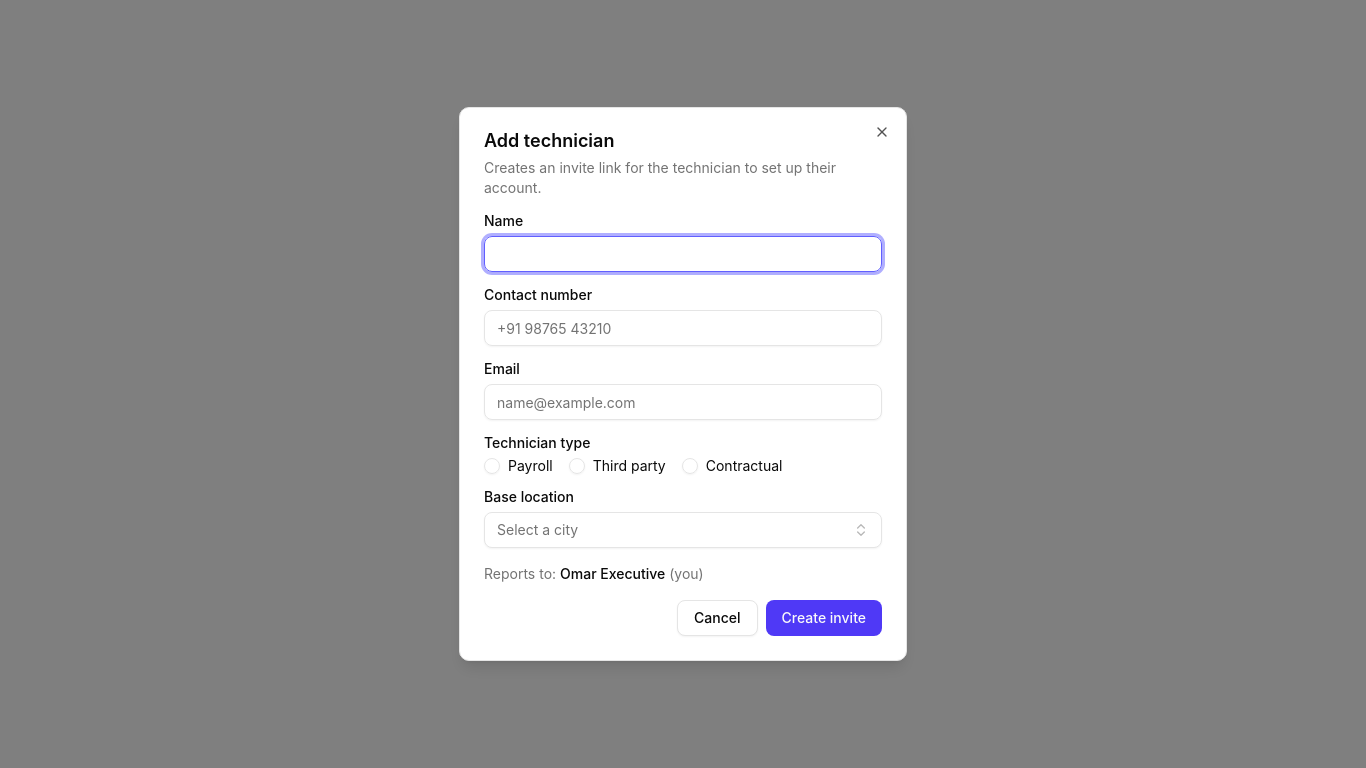
Test case: TechnicianDialog — add › an OE does not choose a manager: it is forced to themselves
Expected: the text "Reports to: Omar Executive (you)" is shown, [484,565,704,582]
Type "Ravi Kumar" into the field labelled "Name" at (683, 254), box [484,236,882,272]
Type "+91 90000 00001" into the field labelled "Contact number" at (683, 328), box [484,310,882,346]
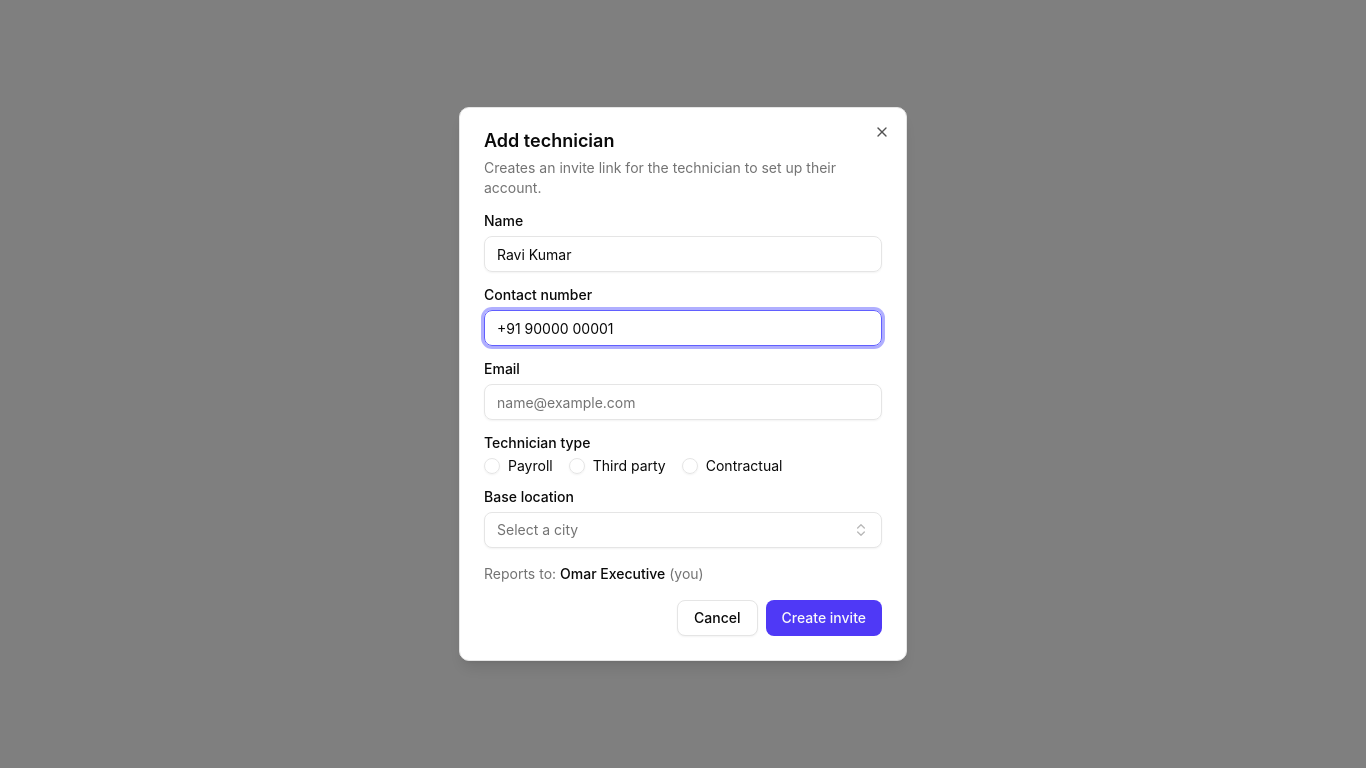
Type "Ravi@Example.com" into the field labelled "Email" at (683, 402), box [484,384,882,420]
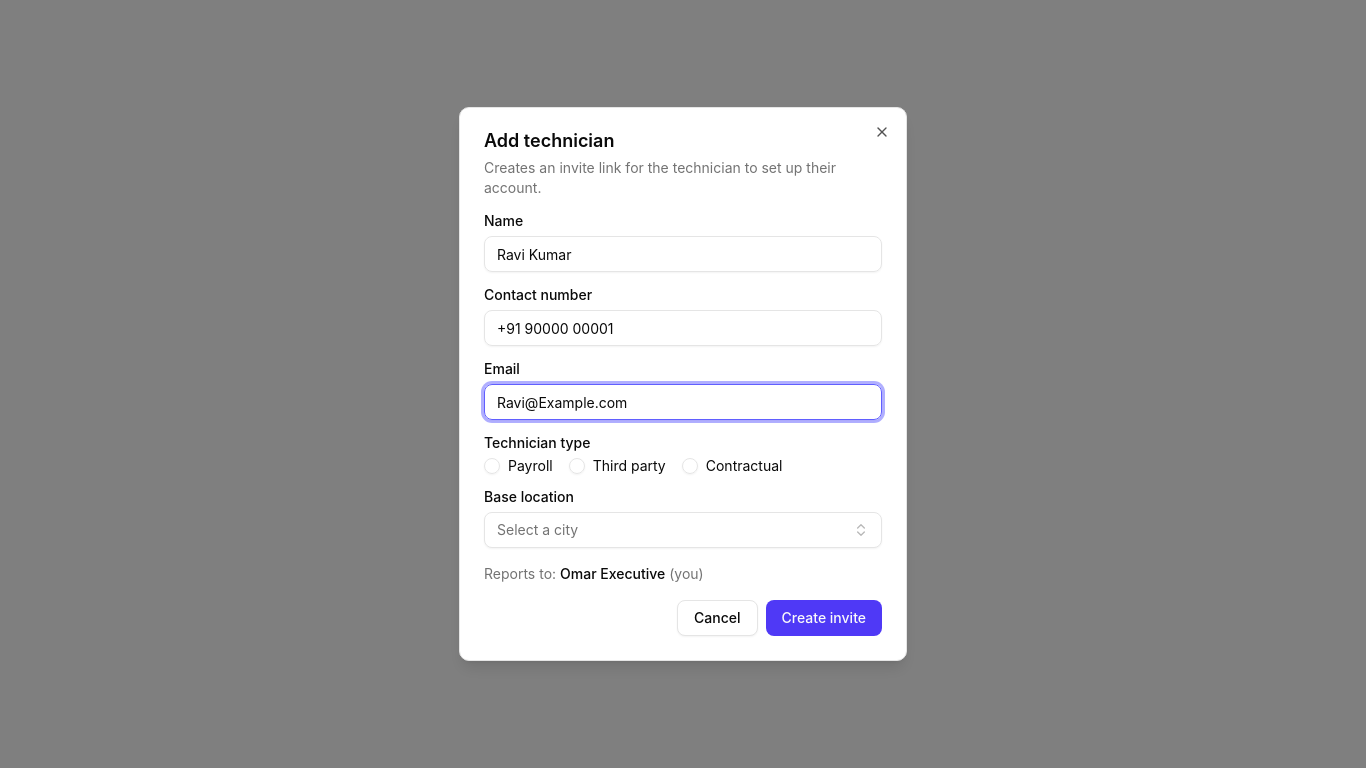
Click the radio button named "Third party" next to "Third party" at (577, 466), box [569,458,585,474]
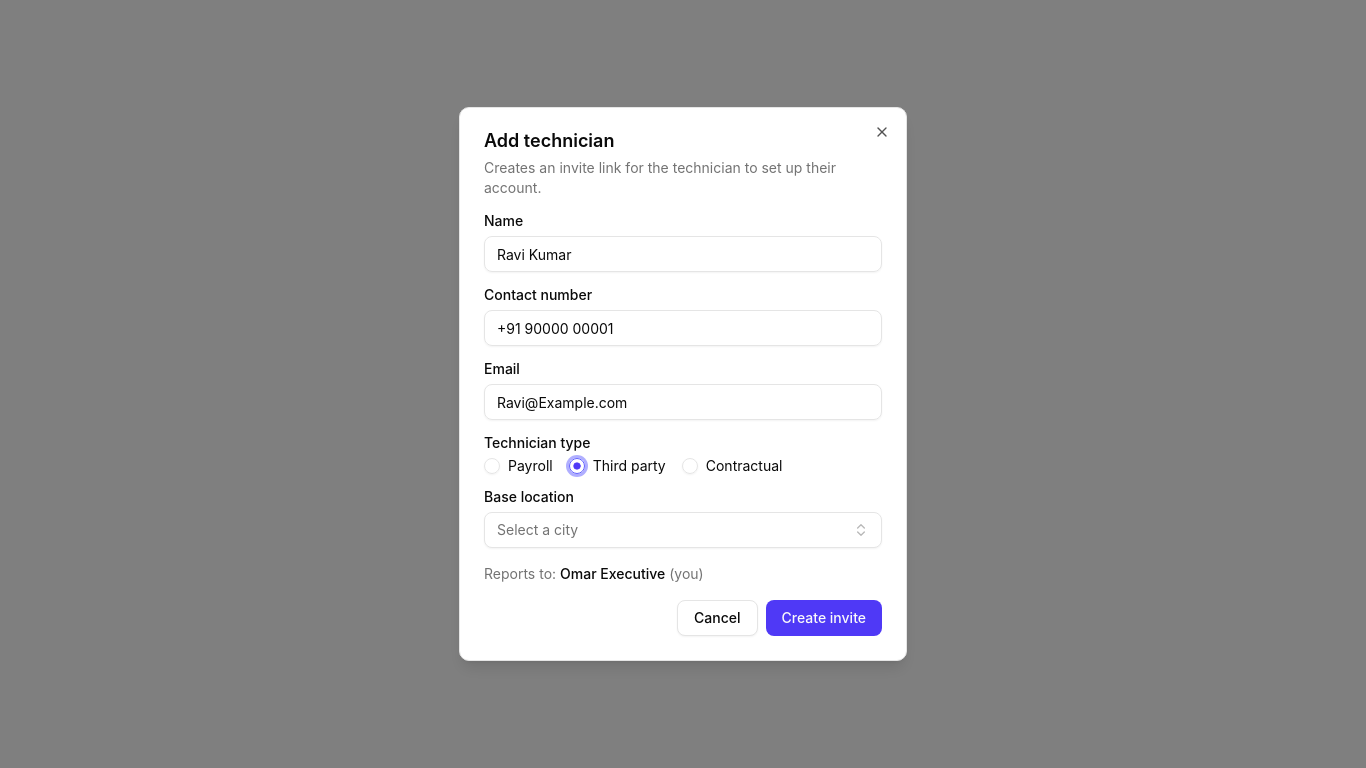
Click the dropdown named "Base location" at (538, 530), box [484,512,882,548]
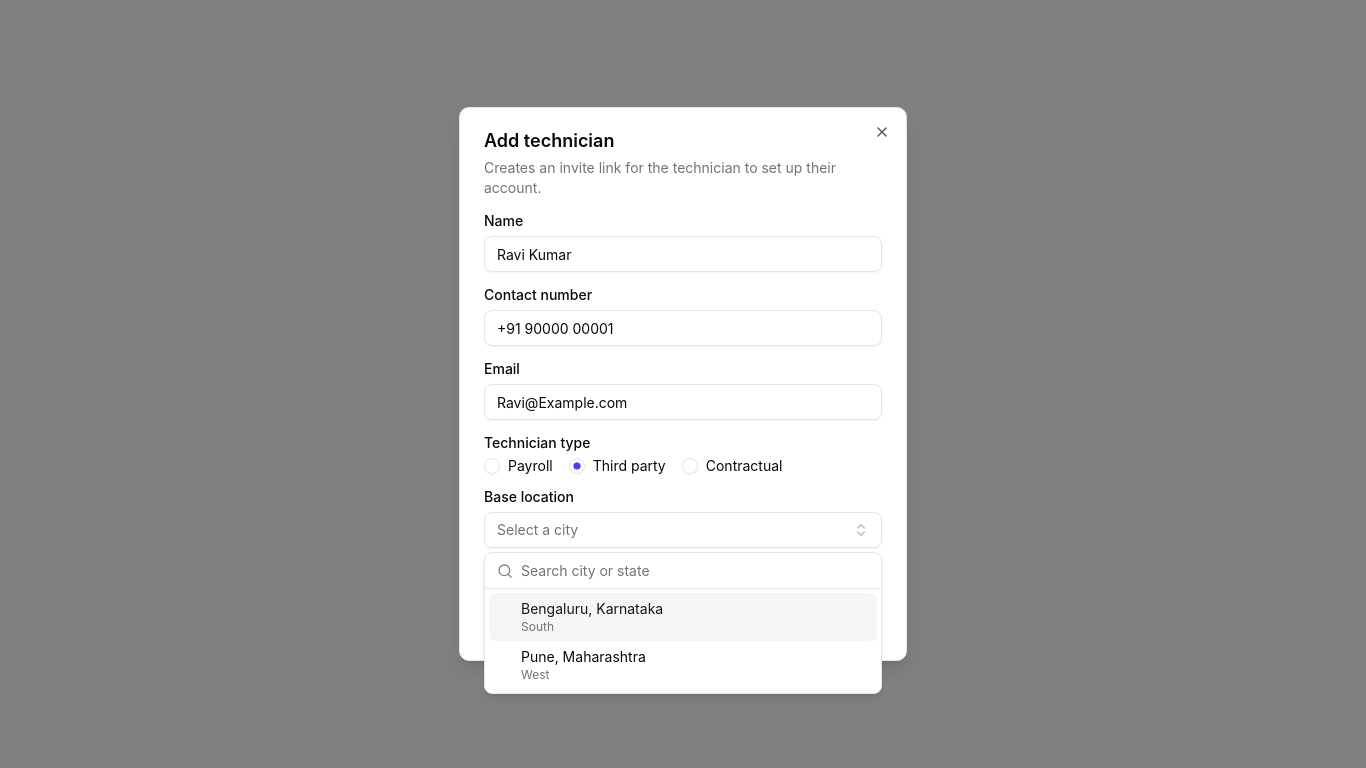
Click the option "Pune, Maharashtra West" at (583, 665), box [521,648,646,682]
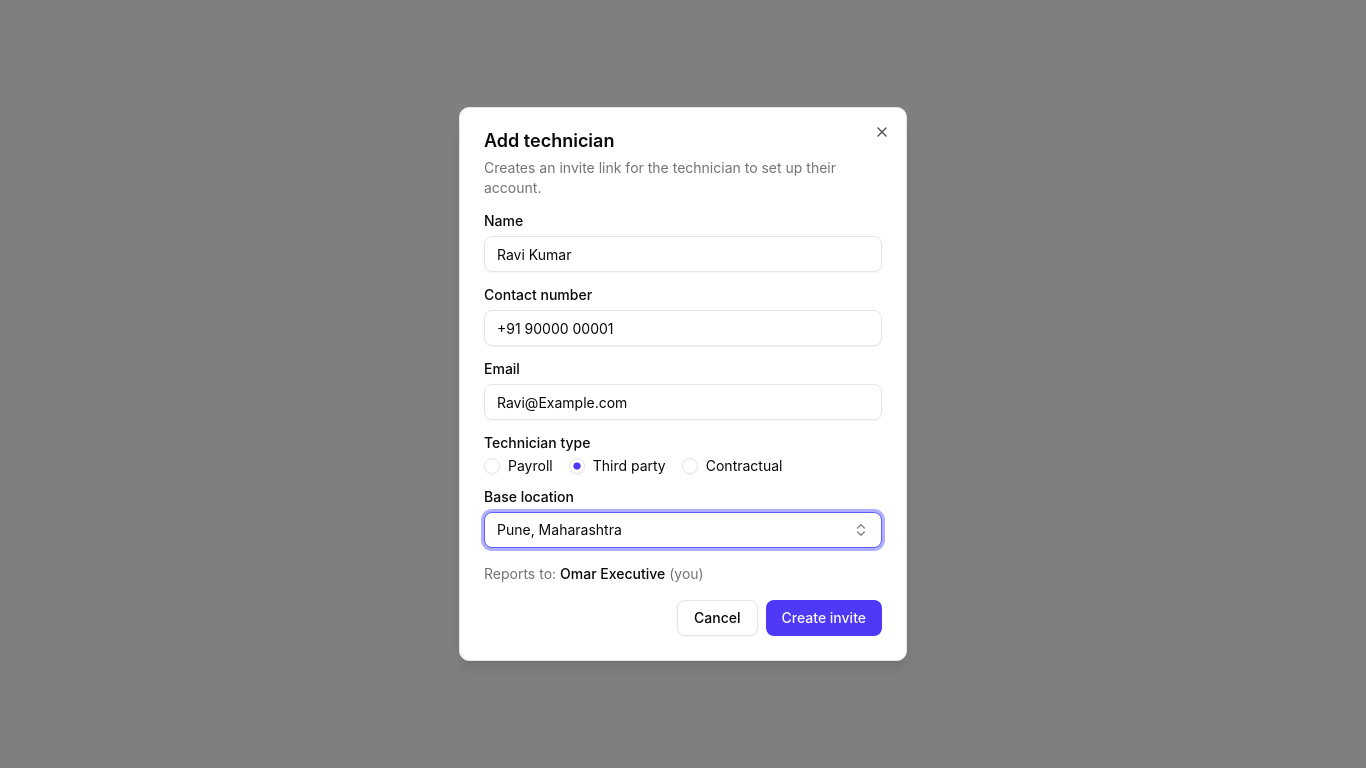
Click the button "Create invite" at (824, 618), box [766,600,882,636]
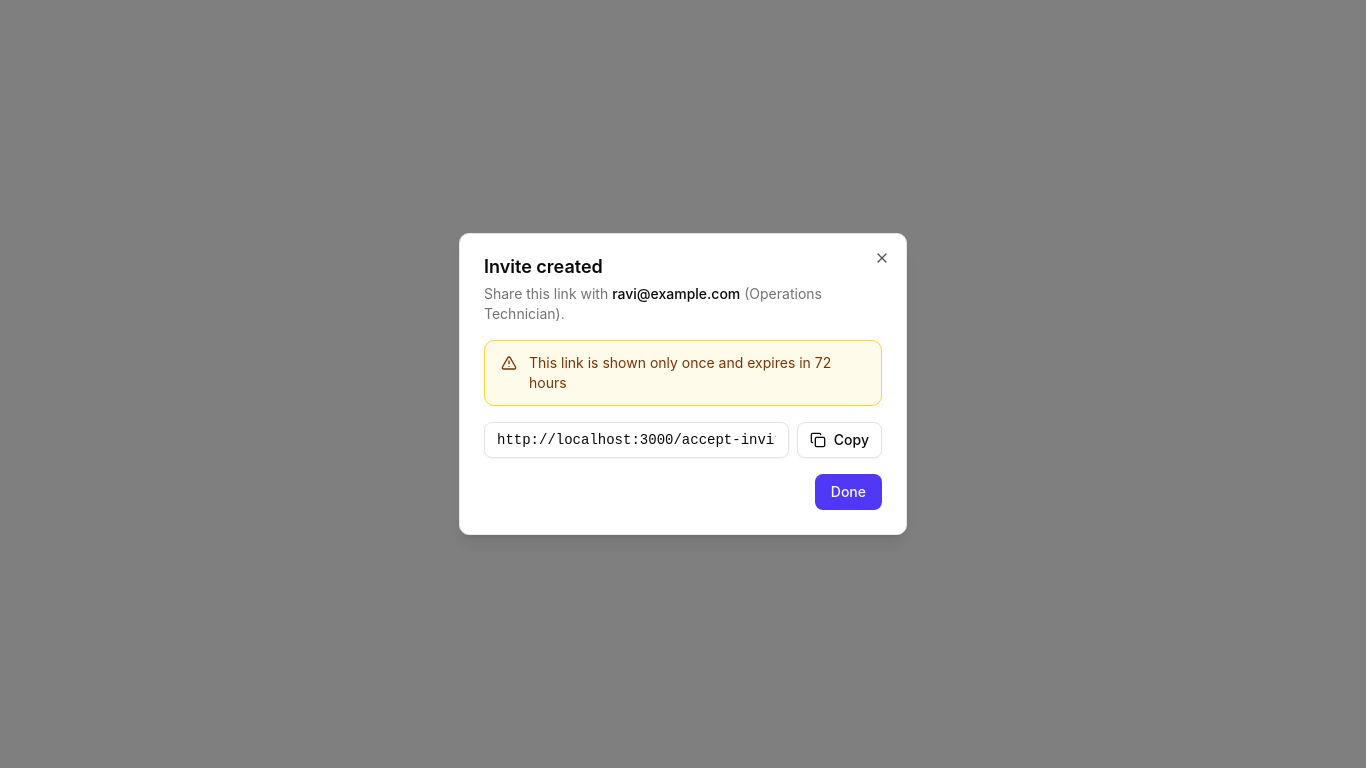
Result: the heading "Invite created" is shown at [484,256,603,277]
